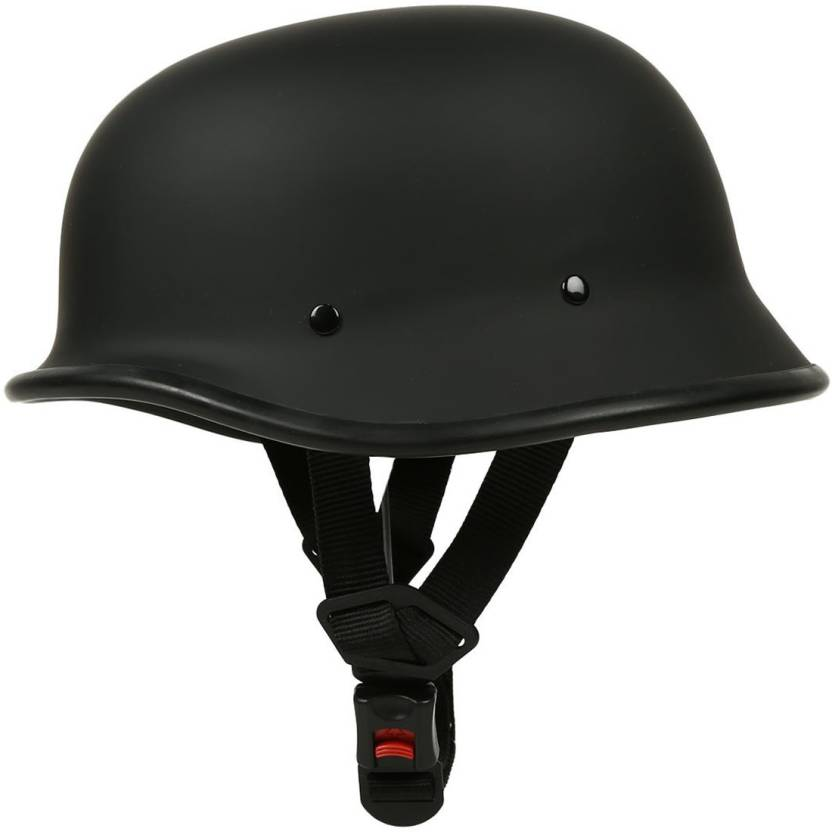with_helmet: (2, 2, 826, 514)
